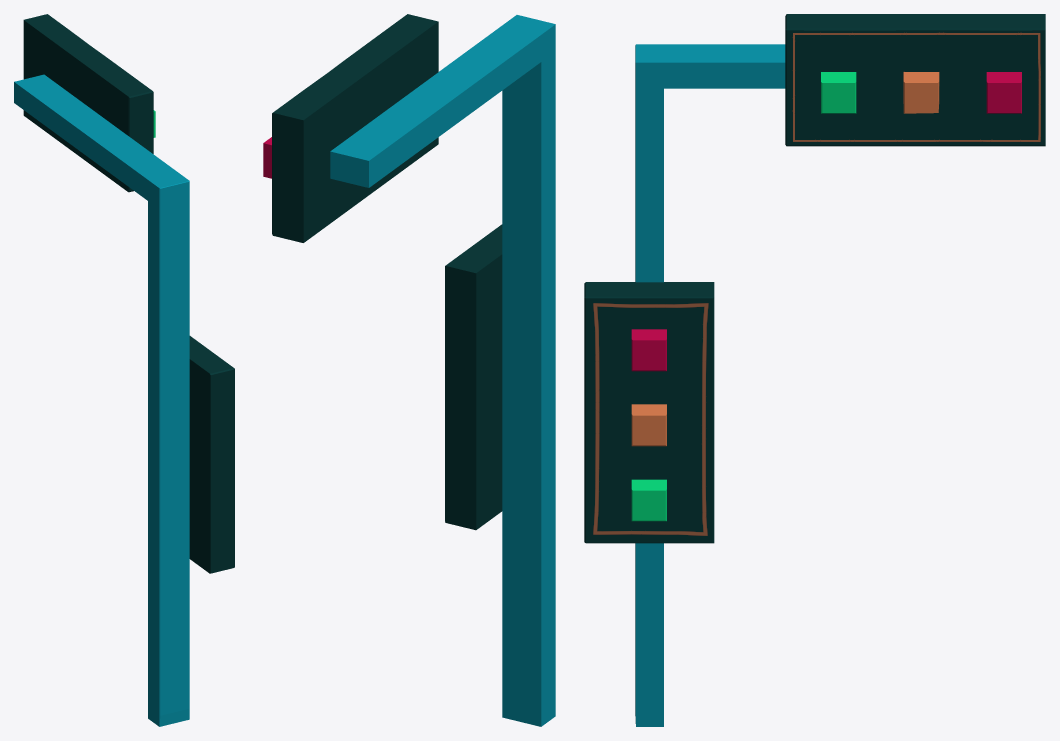
File: MDL_Stoplicht_links 1.fbx
3 views of the same model, side by side, from view 1: azimuth 30°, elevation 25°; view 2: azimuth 150°, elevation 25°; view 3: azimuth 270°, elevation 25° (orthographic). The views are drawn at different scales.
Visible parts, largest first — view 1: Stoplicht_links; view 2: Stoplicht_links; view 3: Stoplicht_links.
Boxes of the visible parts, x1,y1,x2,y2 form: Stoplicht_links: [14, 14, 234, 726]; Stoplicht_links: [263, 14, 555, 726]; Stoplicht_links: [584, 14, 1045, 726].
Size of the model in its own units: 47.96 by 369 by 217.
